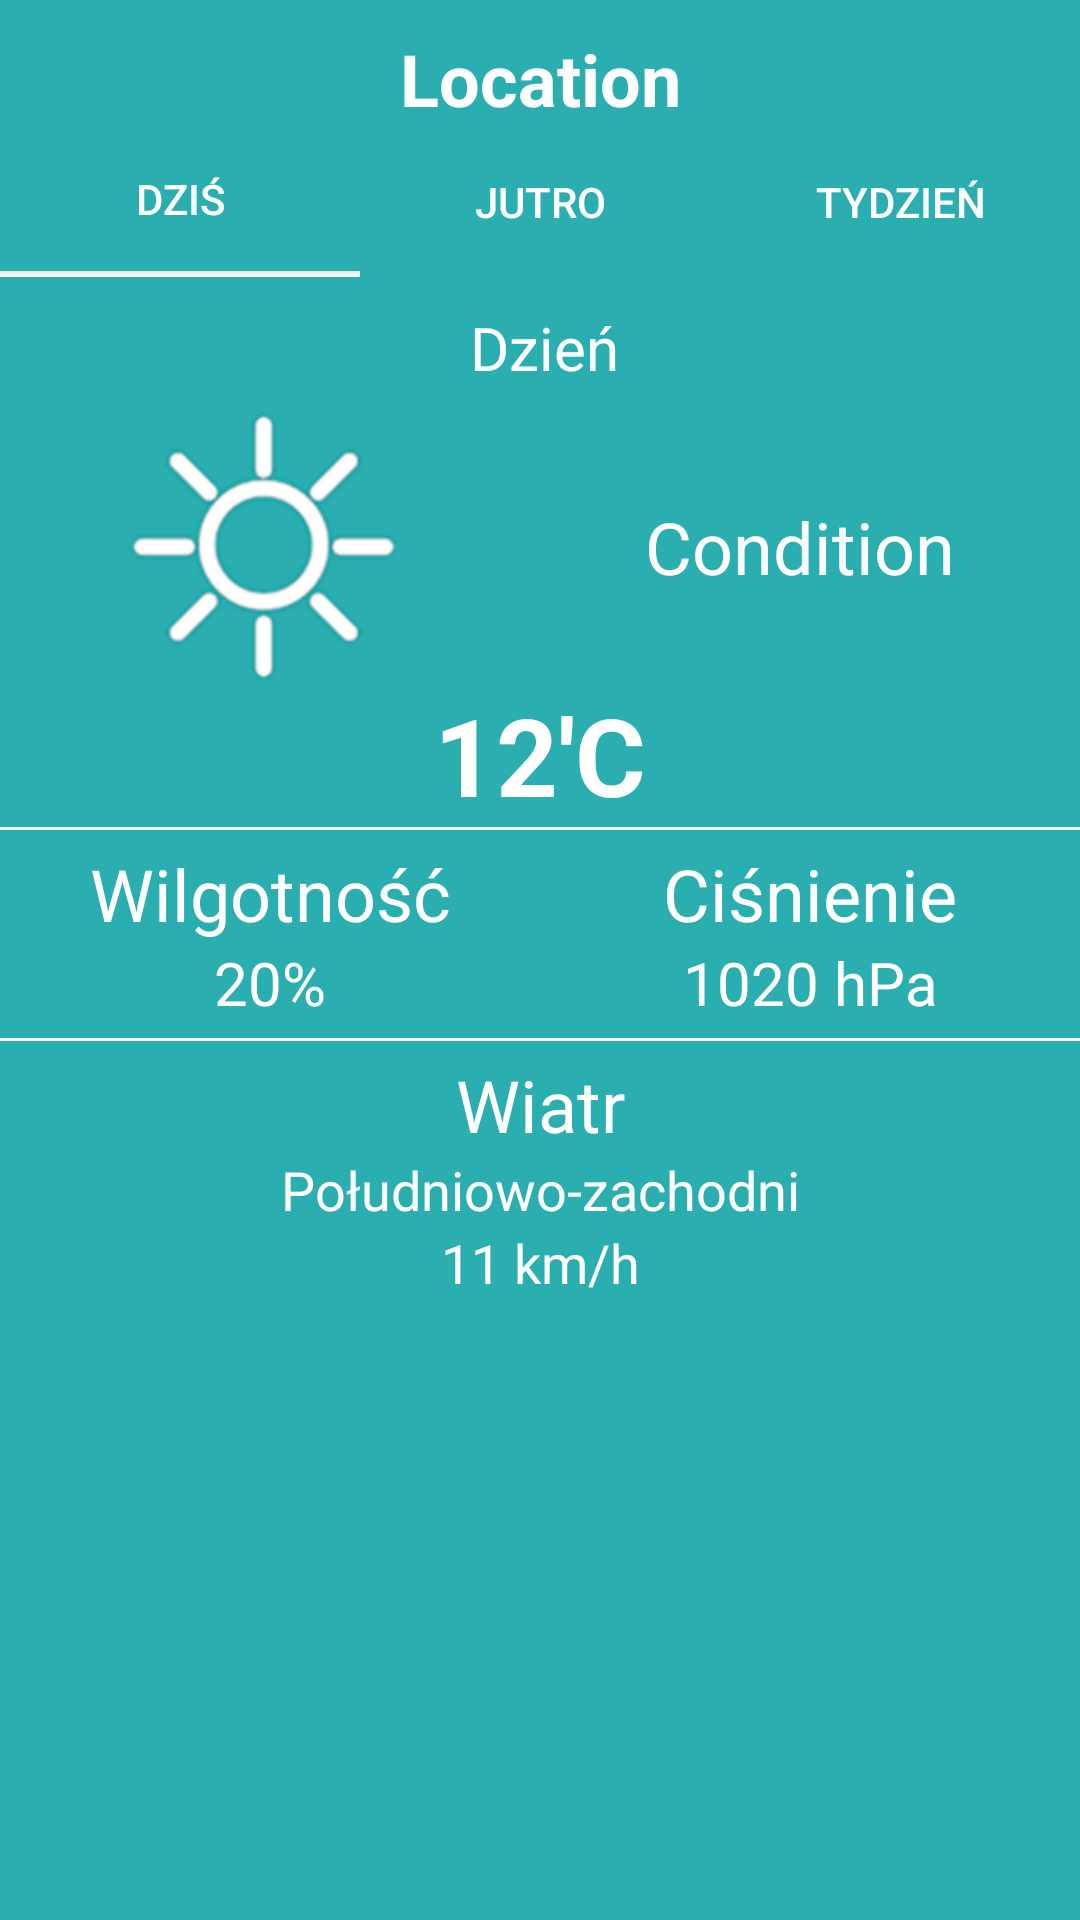

Named icons in this screenshot (1080*1920) and their centers, point (x, y):
slonce: point (264, 547)
